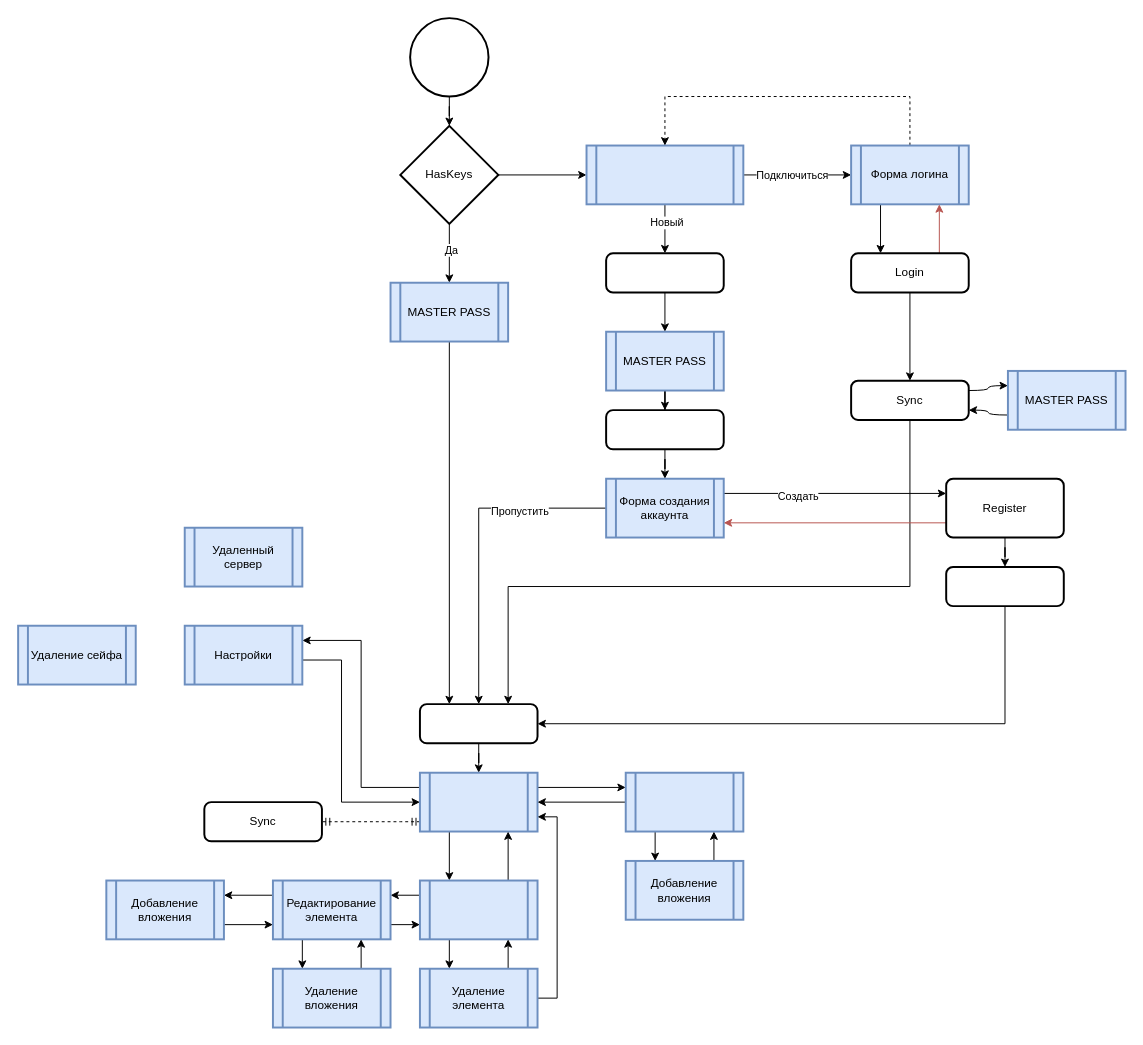
Image size: 1143x1045. Some labels were removed from this diagram. Each missing label, with the centre of its shape:
?Vault.Purge: the point at 664,272
GenerateNewKeys: the point at 664,429
OverviewList: the point at 478,723
SyncServerSet: the point at 1004,586
Отображение элемента: the point at 478,909
Создание элемента: the point at 684,801
Создать новый сейф или подключиться к существующему: the point at 664,174
Список элементов: the point at 478,801
Старт: the point at 449,57
